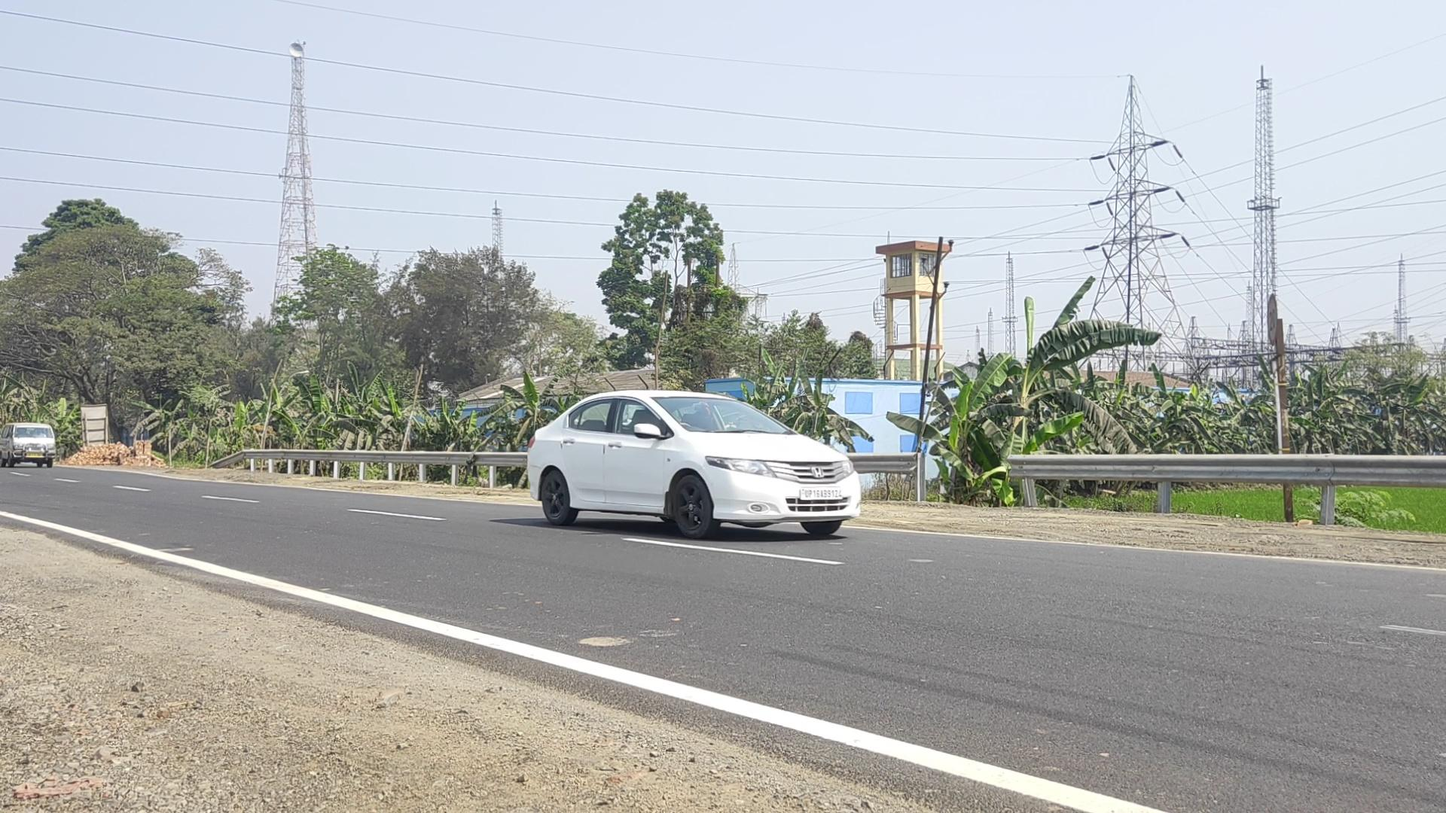car: (526, 389, 862, 540)
van: (1, 422, 56, 468)
